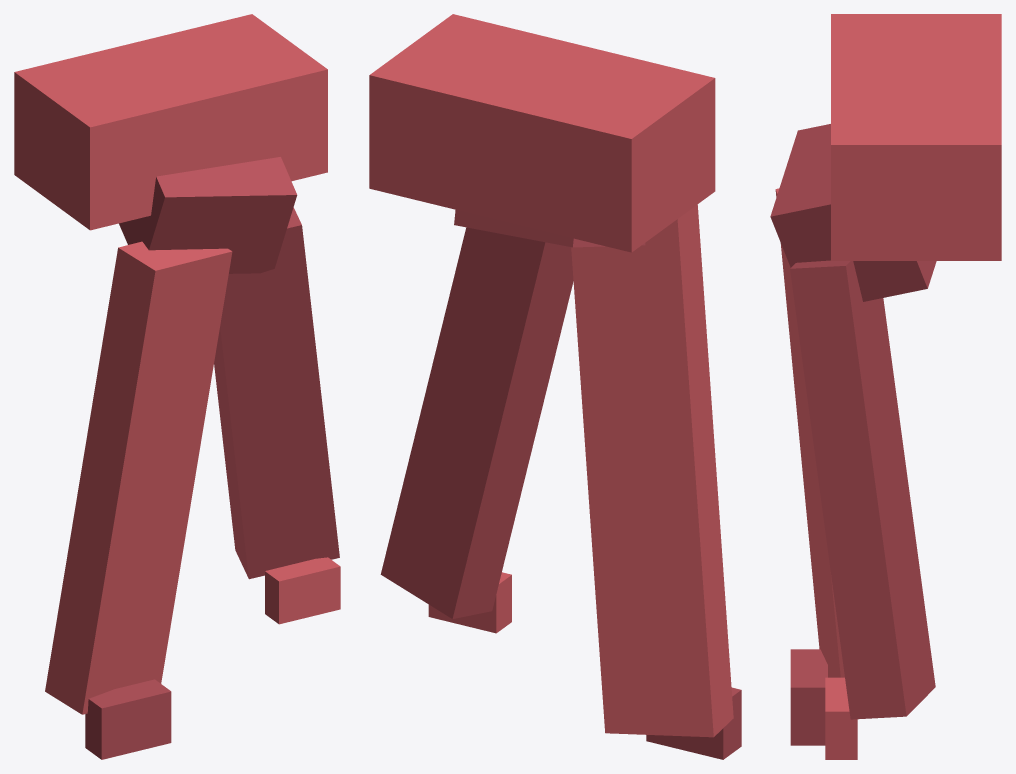
Rendered from Scarf.glb.
The picture shows the model from 3 angles, left to right: view 1: azimuth 30°, elevation 25°; view 2: azimuth 150°, elevation 25°; view 3: azimuth 270°, elevation 25°; orthographic projection. The views are drawn at different scales.
Parts seen in each view (by area): view 1: Scarf_Tail_L, Scarf_Front_Bulk, Scarf_Tail_R, Scarf_Knot, Scarf_Tip_L, Scarf_Tip_R; view 2: Scarf_Tail_L, Scarf_Front_Bulk, Scarf_Tail_R, Scarf_Tip_L, Scarf_Knot, Scarf_Tip_R; view 3: Scarf_Front_Bulk, Scarf_Tail_R, Scarf_Knot, Scarf_Tail_L, Scarf_Tip_L, Scarf_Tip_R.
Part boxes in pixels (<box>): Scarf_Tail_L: <box>45,241,232,714</box>; Scarf_Front_Bulk: <box>14,14,327,230</box>; Scarf_Tail_R: <box>214,207,339,579</box>; Scarf_Knot: <box>119,157,297,273</box>; Scarf_Tip_L: <box>85,679,171,759</box>; Scarf_Tip_R: <box>265,557,340,624</box>; Scarf_Tail_L: <box>571,204,733,737</box>; Scarf_Front_Bulk: <box>369,14,715,252</box>; Scarf_Tail_R: <box>380,227,573,618</box>; Scarf_Tip_L: <box>646,687,741,759</box>; Scarf_Knot: <box>454,210,645,247</box>; Scarf_Tip_R: <box>428,572,511,633</box>; Scarf_Front_Bulk: <box>831,14,1001,260</box>; Scarf_Tail_R: <box>790,260,935,719</box>; Scarf_Knot: <box>770,124,936,301</box>; Scarf_Tail_L: <box>775,188,844,677</box>; Scarf_Tip_L: <box>790,649,827,745</box>; Scarf_Tip_R: <box>825,677,857,759</box>.
Bounding box in the file's own units: 0.7114 × 1.44 × 0.4333.
